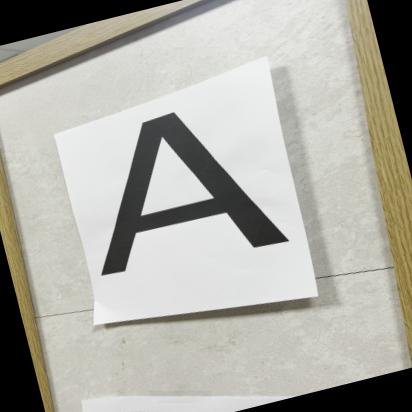seat: (44, 78, 311, 308)
